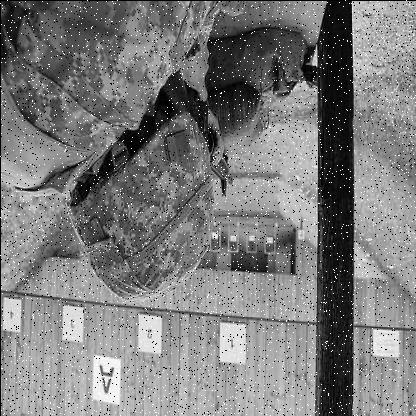rifle: (173, 36, 245, 197)
